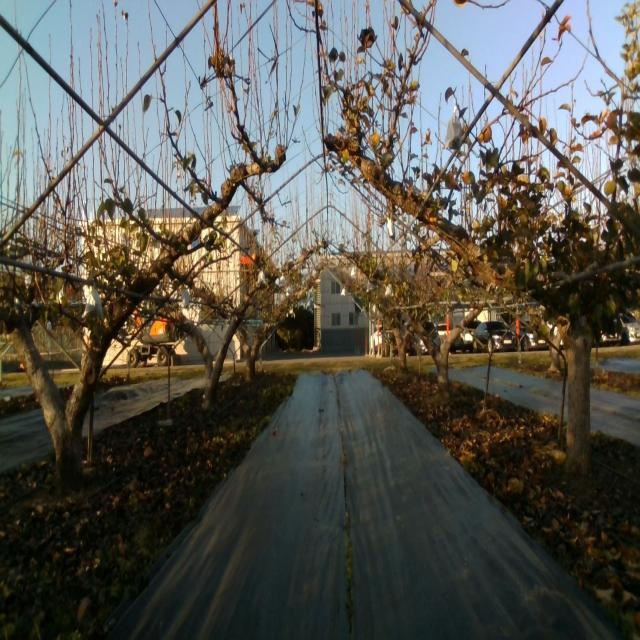pearbags: (443, 106, 462, 155), (83, 288, 104, 323), (182, 289, 192, 309)
